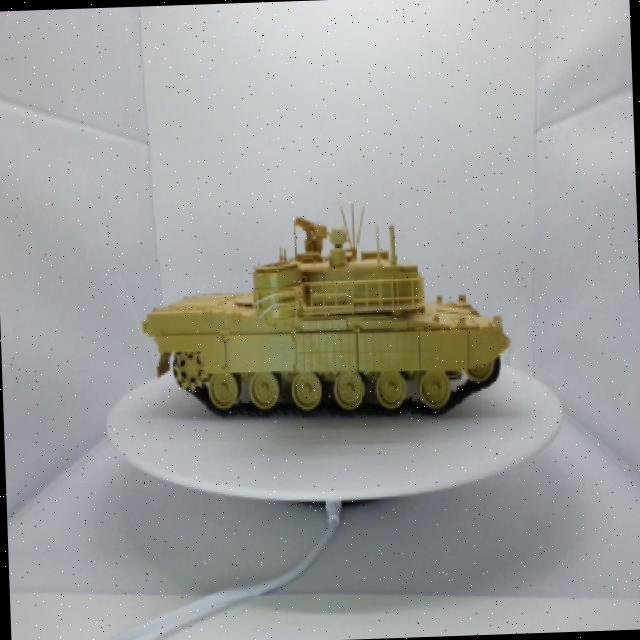korea tank: (112, 166, 531, 467)
